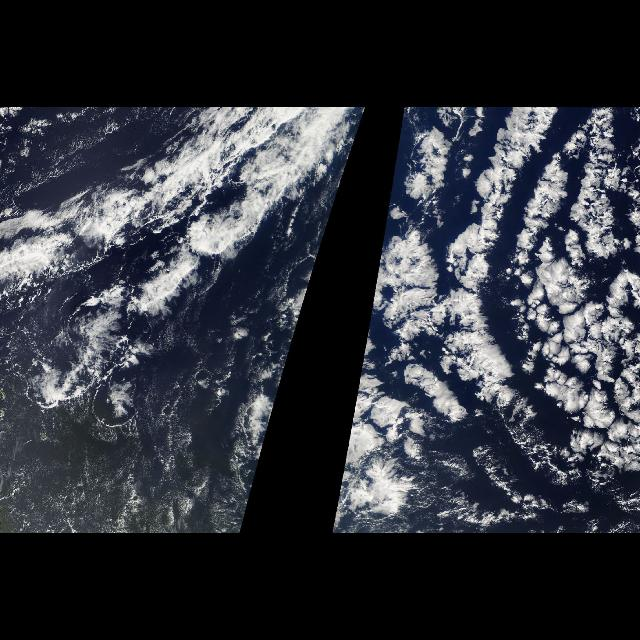Fish: (386, 134, 534, 452)
Sugar: (2, 416, 242, 534)
